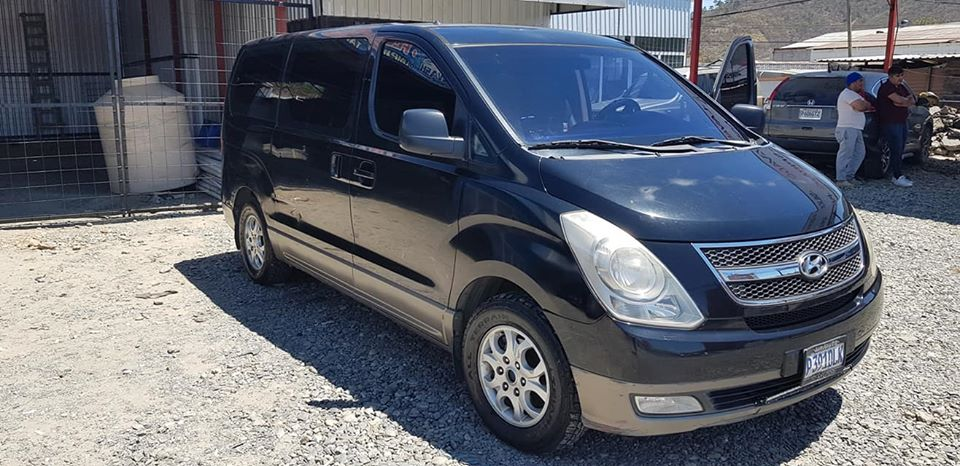bus: (217, 18, 881, 450)
